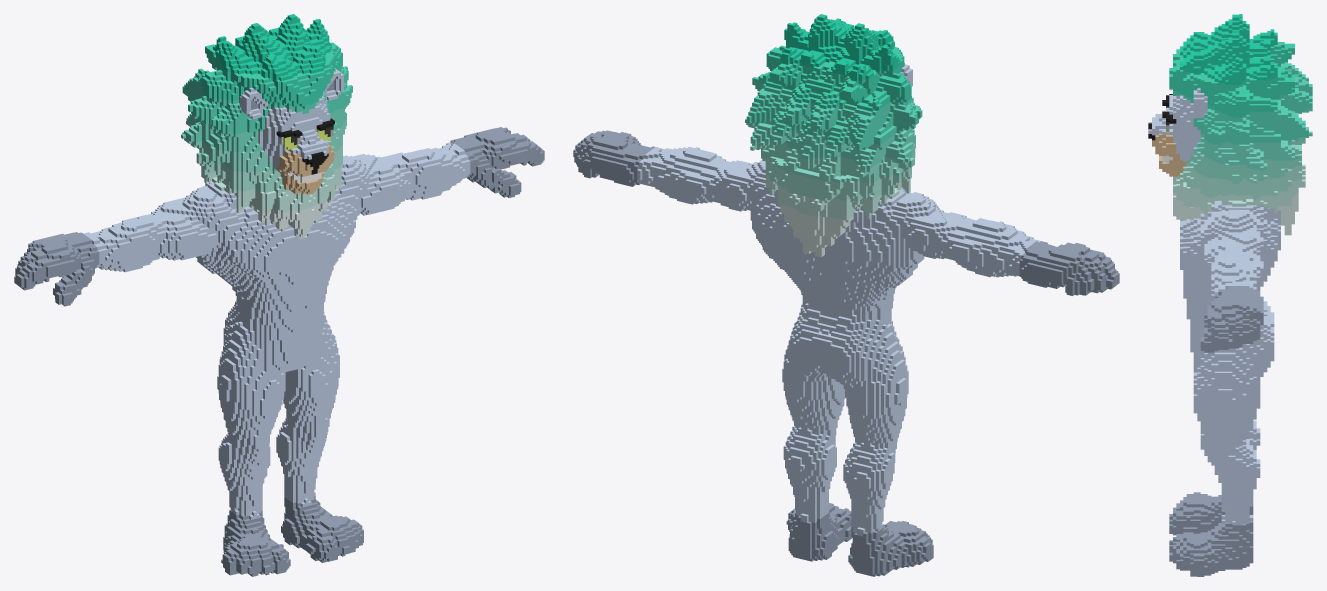
File: 151-CwNutN8O.glb
3 renders of one model, left to right at view 1: azimuth 30°, elevation 25°; view 2: azimuth 150°, elevation 25°; view 3: azimuth 270°, elevation 25°, orthographic. The views are drawn at different scales.
Visible parts, largest first — view 1: big_smile; view 2: big_smile; view 3: big_smile.
Boxes of the visible parts, x1,y1,x2,y2 form: big_smile: (14,14,544,576); big_smile: (573,14,1119,576); big_smile: (1148,14,1312,576).
Size of the model in its own units: 17.2 by 16.5 by 4.7.
Materials: 4 (4 with a texture image).
